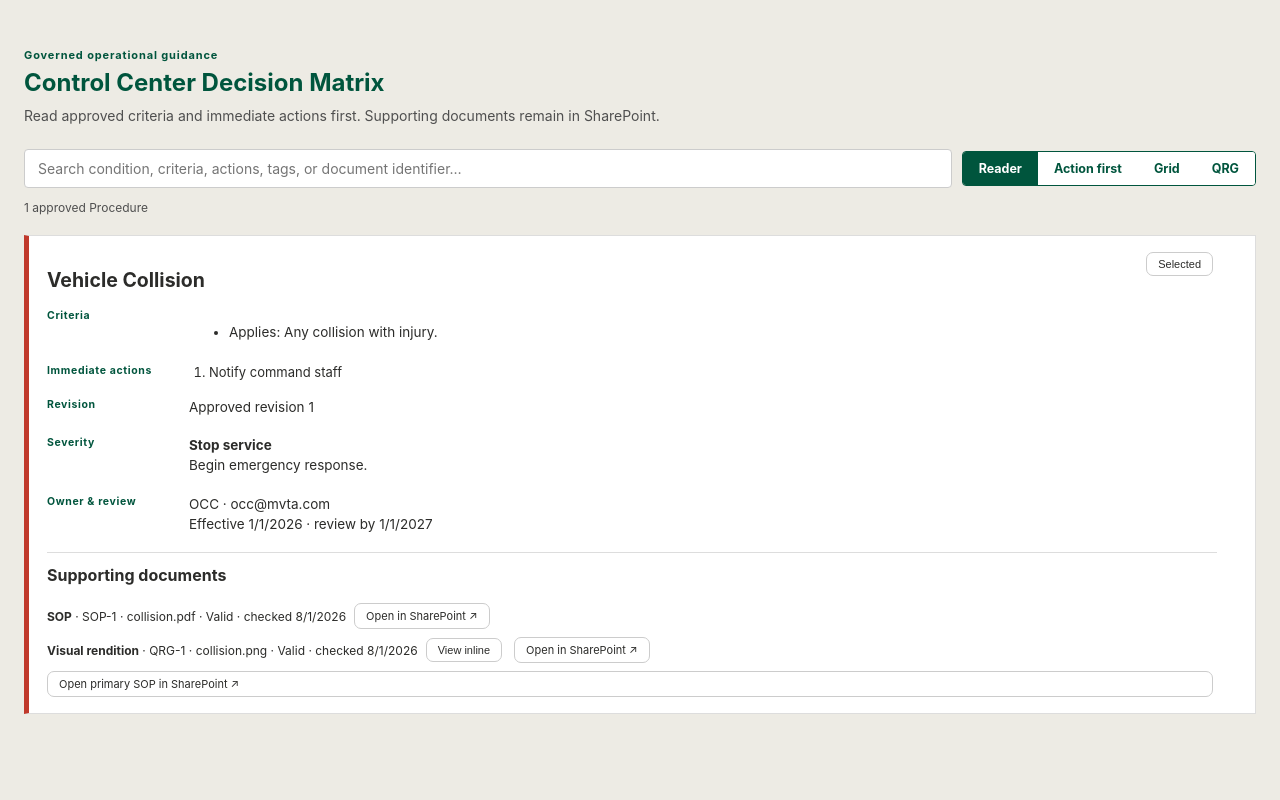
Decision Matrix › keeps grid and QRG views available
Expected: the heading "Vehicle Collision" is shown, 47,268 -> 205,292
Click the button "Grid". click: (1167, 168)
box: 1138,152 -> 1196,185
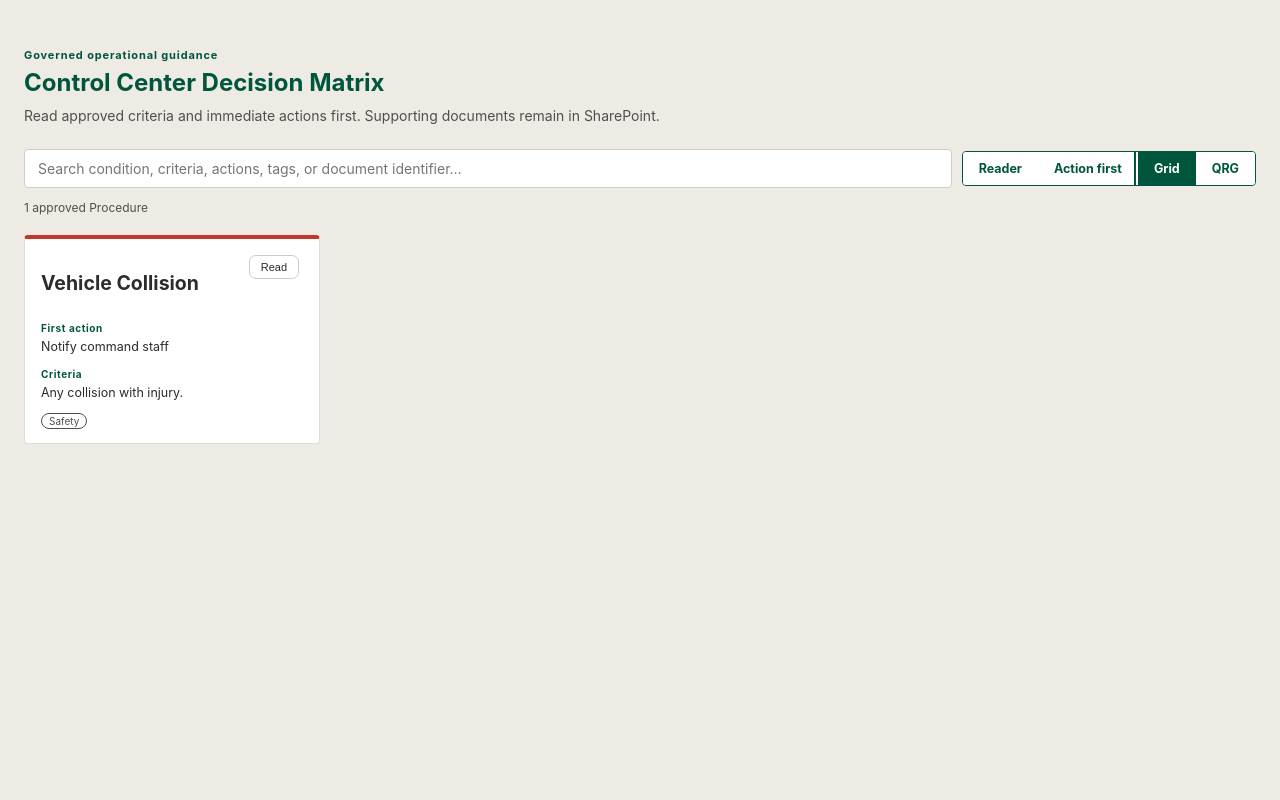
Expected: the button "Read" is shown, 249,255 -> 299,279
Click the button "QRG". click: (1225, 168)
box: 1196,152 -> 1255,185
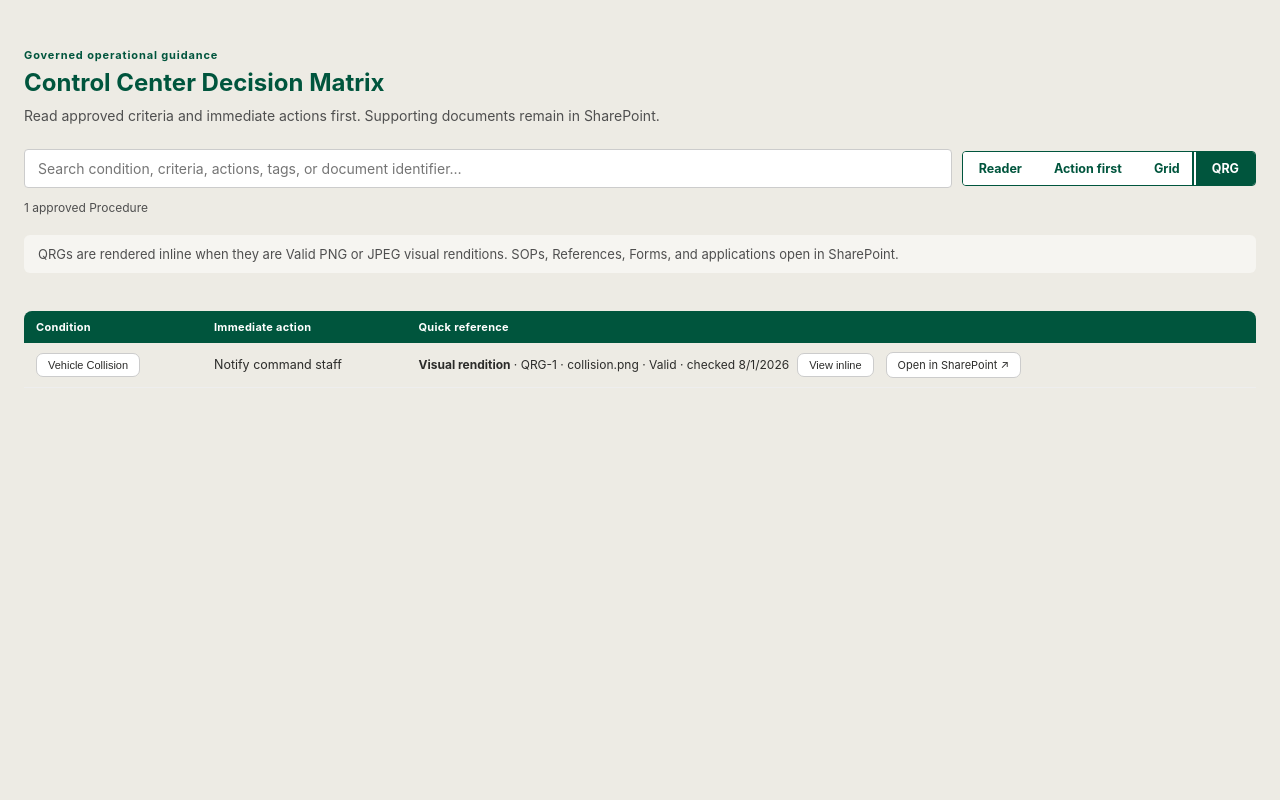
Expected: the text "QRGs are rendered inline" is shown, 38,246 -> 899,262
